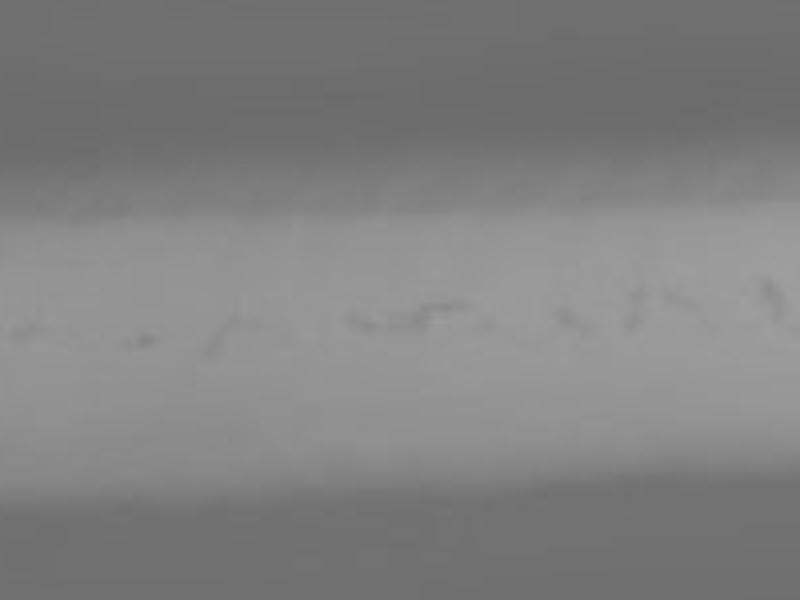defect: (406, 299, 465, 335), (758, 275, 788, 329), (218, 312, 267, 338), (345, 307, 379, 337), (551, 305, 582, 329), (660, 291, 695, 311), (124, 334, 165, 351), (625, 287, 652, 309), (619, 314, 647, 335), (201, 334, 220, 362), (475, 315, 501, 333)
